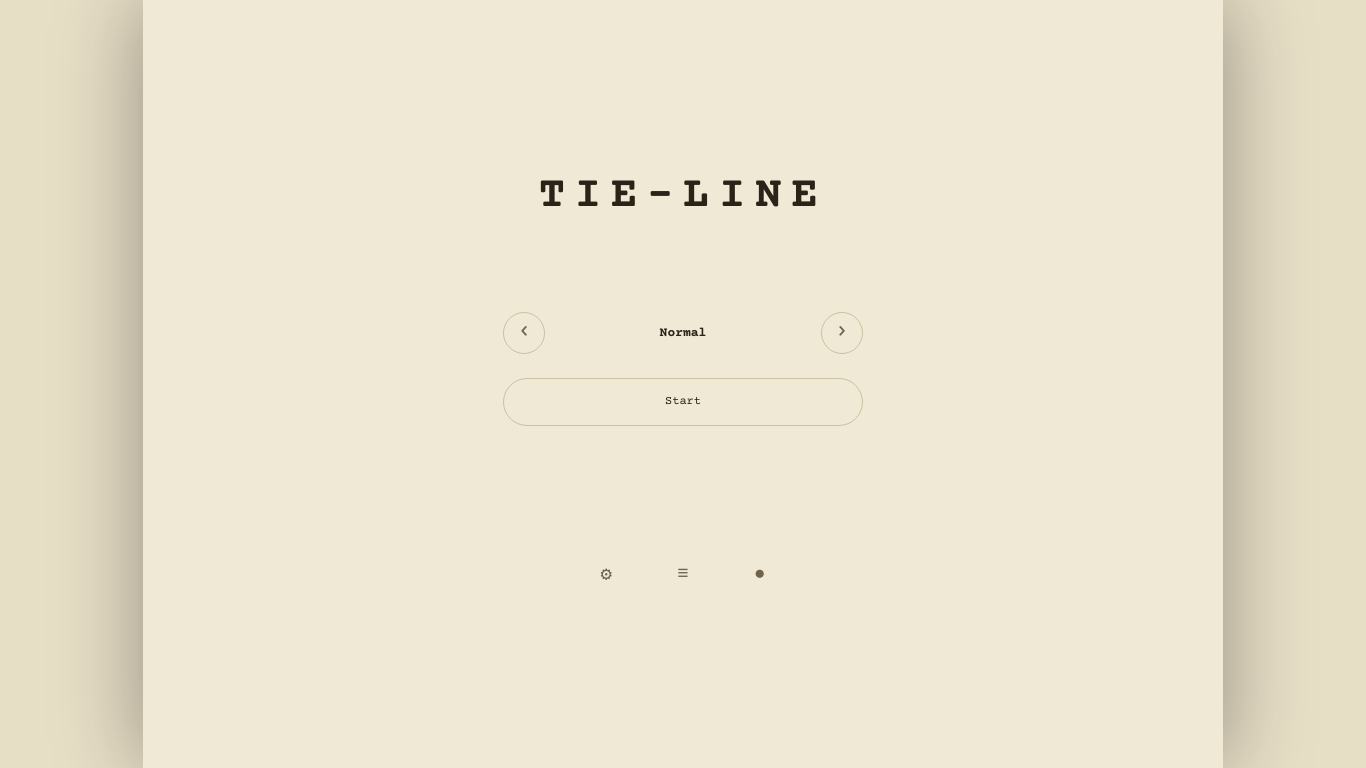
Scenario: Tie-Line launch › separates honest statistics for Easy, Normal, and Hard while preserving recent history
Click the button named "Statistics".
click(760, 574)  # box [737,551,783,597]
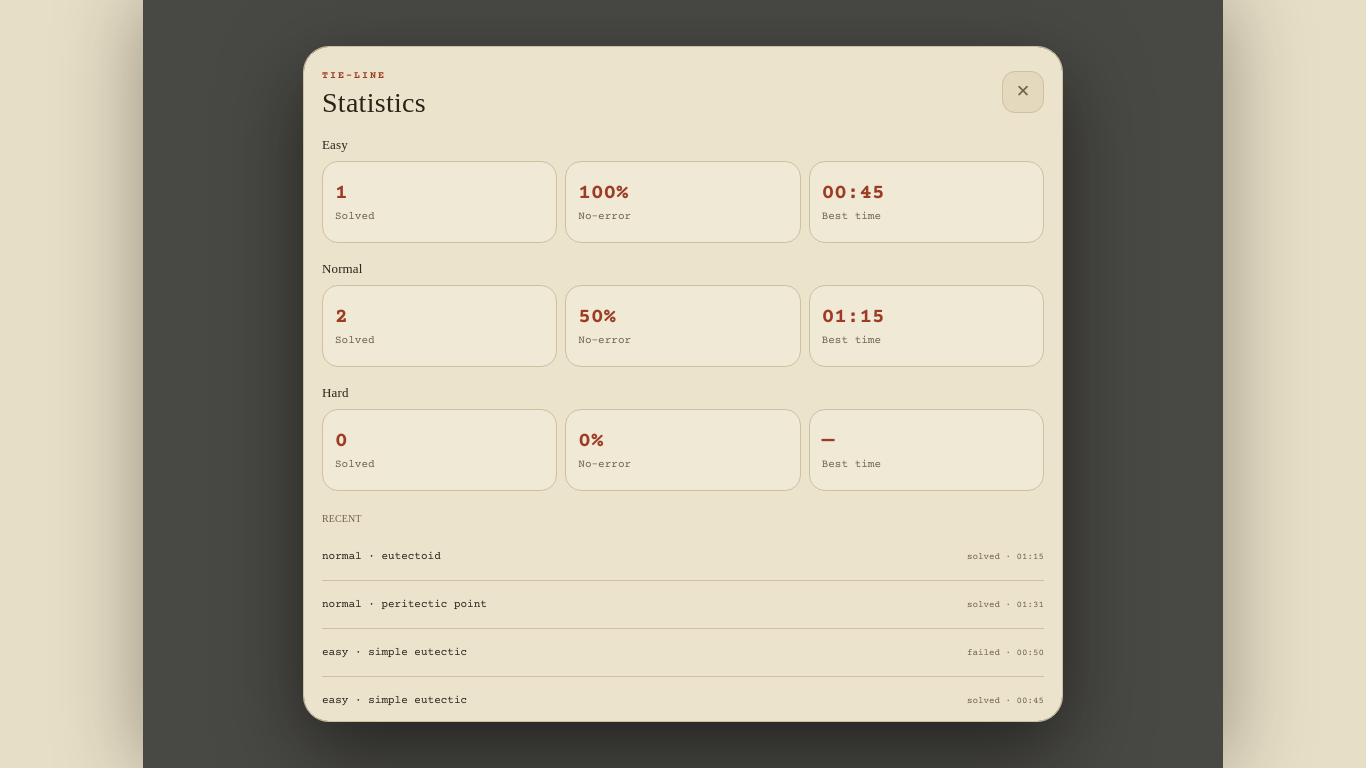
Expected: the element "Easy" is shown, [322,137,1044,243]
Expected: the element "Normal" is shown, [322,261,1044,367]
Expected: the element "Hard" is shown, [322,385,1044,491]
